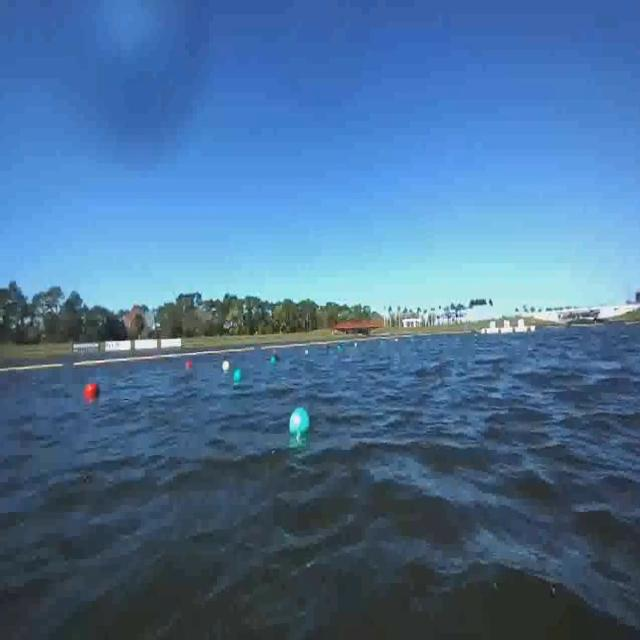green-buoy: (290, 408, 310, 436), (235, 367, 243, 380)
red-buoy: (86, 384, 101, 400), (186, 360, 192, 368)
